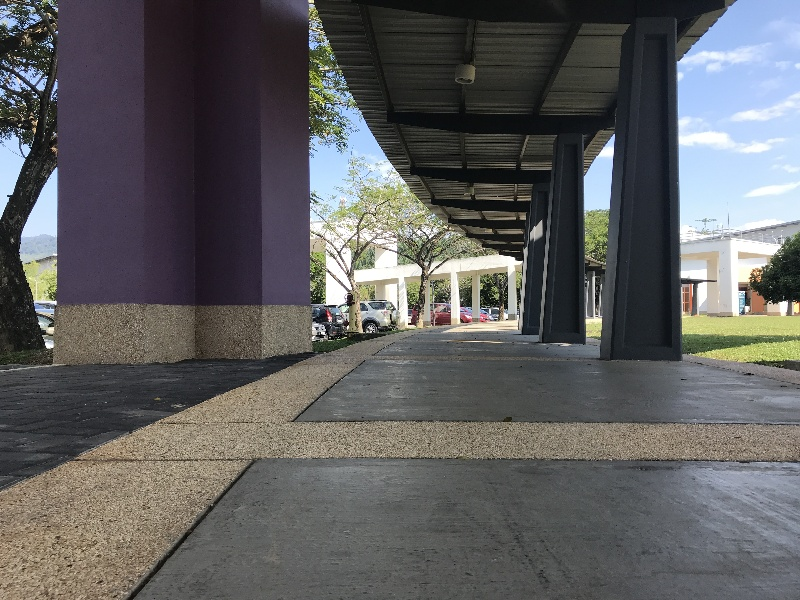Block D corridor: (4, 6, 788, 595)
pillar: (33, 6, 318, 358), (610, 18, 675, 360), (545, 127, 592, 334)
